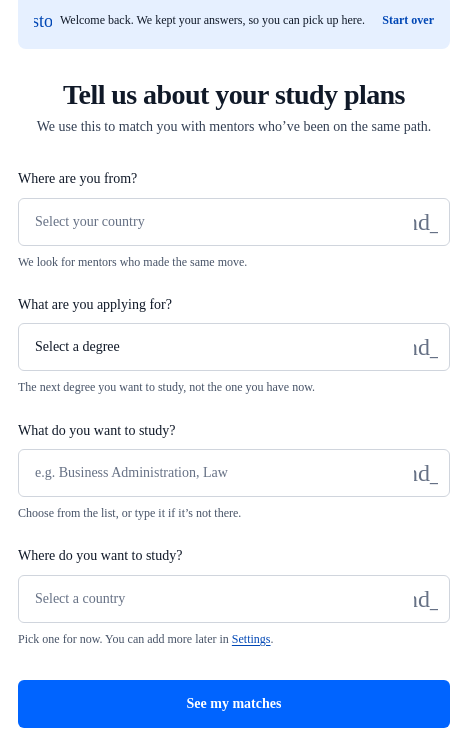
OnboardingScreen › marks each missing plan, focuses the first, and clears each as it’s answered
(page scrolled)
Expected: the text "Select your home country." is not shown
Click the button "See my matches" at (234, 704), box [18, 680, 450, 728]
(page scrolled)
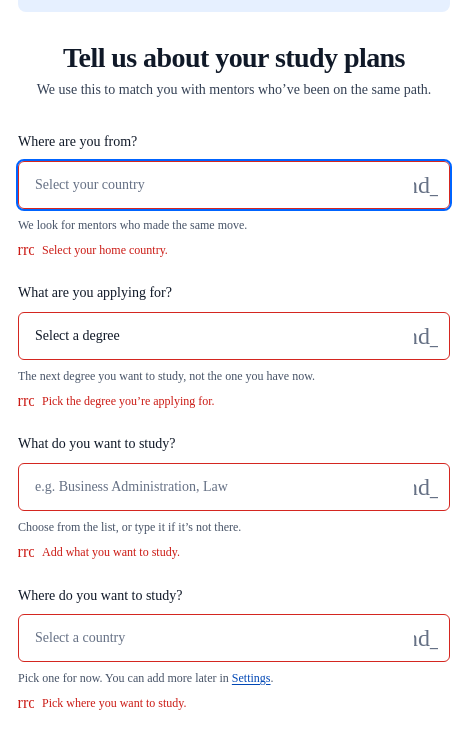
Result: the text "Select your home country." is shown at [42, 242, 168, 259]
Result: the text "Pick the degree you’re applying for." is shown at [42, 393, 215, 410]
Result: the text "Add what you want to study." is shown at [42, 544, 180, 562]
Type "Law" into the dropdown labelled "What do you want to study?" at (234, 487), box [18, 463, 450, 511]
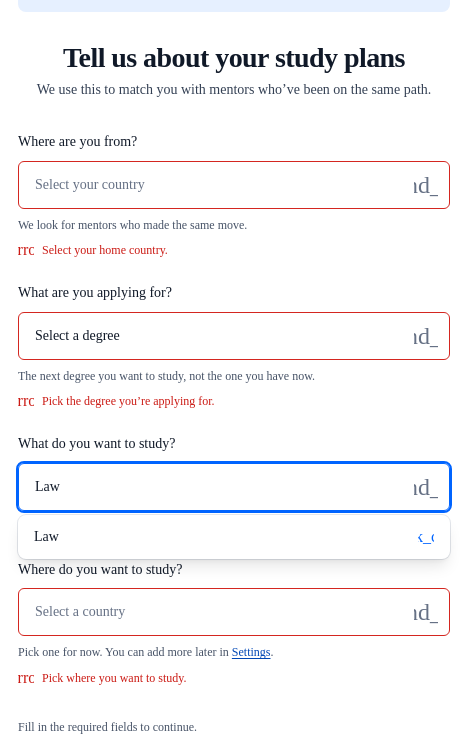
Result: the text "Select your home country." is shown at [42, 242, 168, 259]
Result: the text "Add what you want to study." is gone
